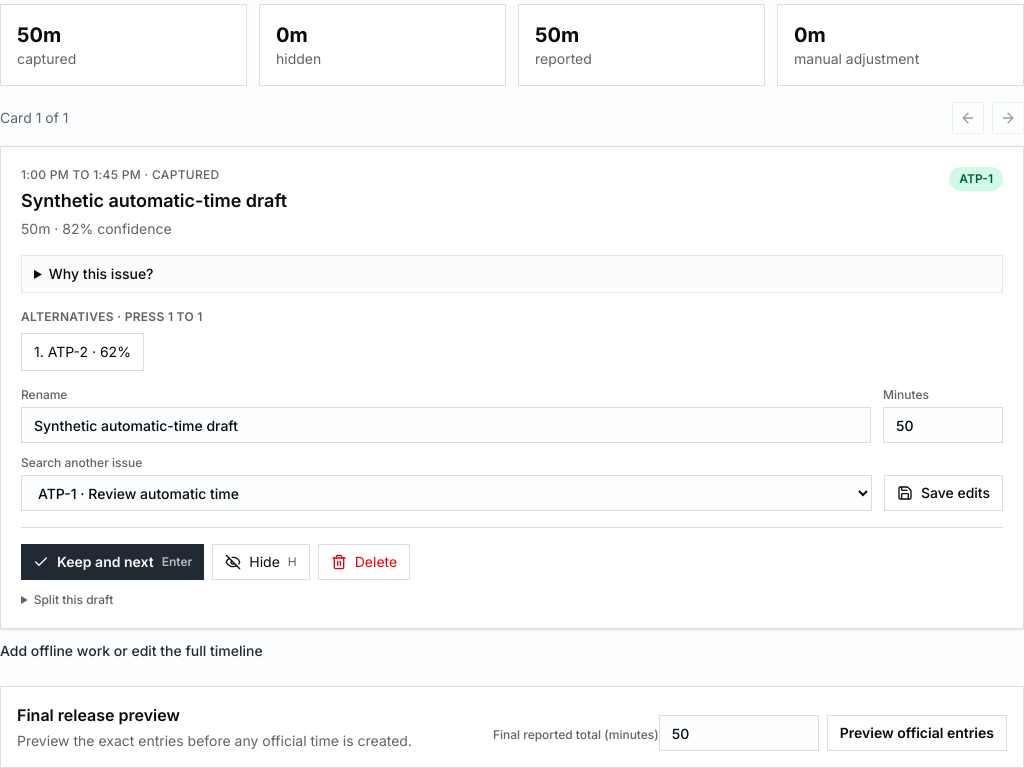
Scenario: Automatic Time plugin pages › requires an explicit Daily Review release action
This screenshot has width=1024, height=768.
(page scrolled)
Click the button "Preview official entries". click: (917, 733)
box: left=827, top=715, right=1007, bottom=751
(page scrolled)
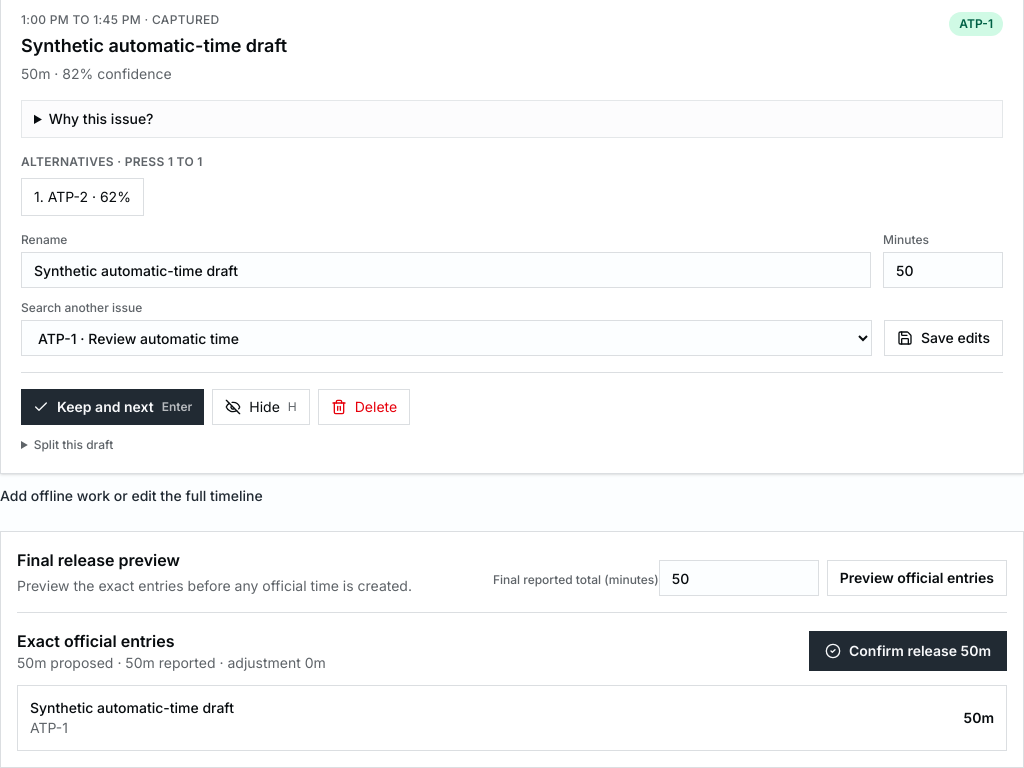
expect the heading "Exact official entries" is shown: met, box left=17, top=631, right=174, bottom=651
Click the button "Confirm release 50m". click: (908, 651)
box: left=809, top=631, right=1007, bottom=671
(page scrolled)
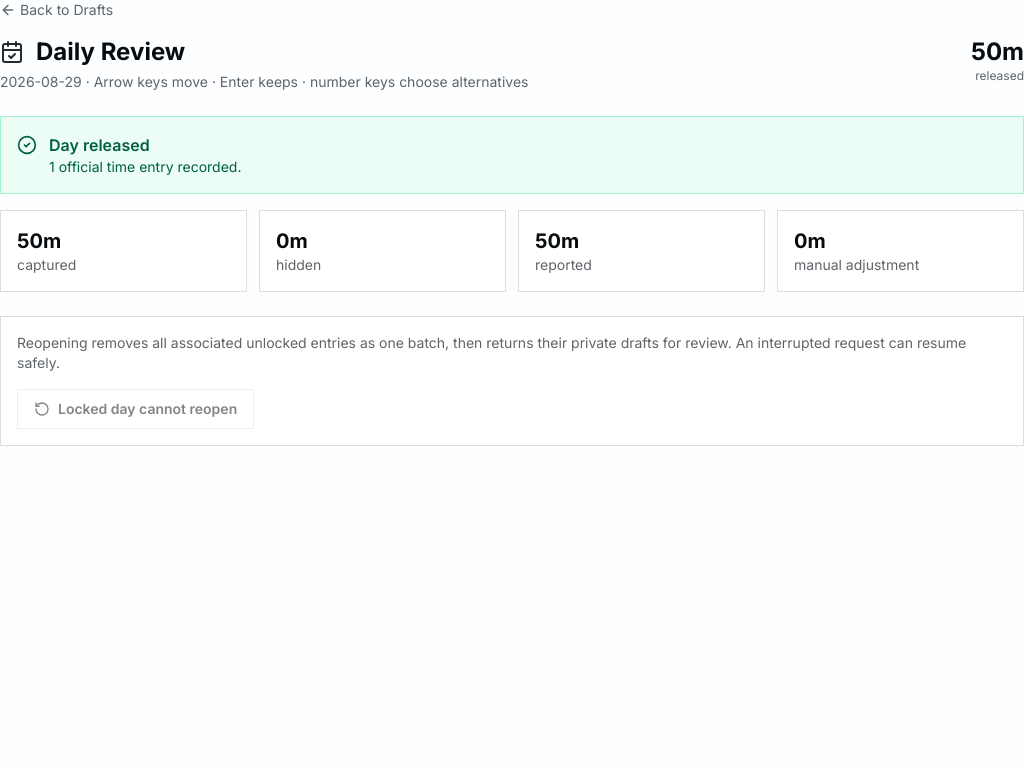
expect the text "Day released" is shown: met, box left=49, top=135, right=150, bottom=155
expect the text "released" is shown: met, box left=971, top=68, right=1023, bottom=84
